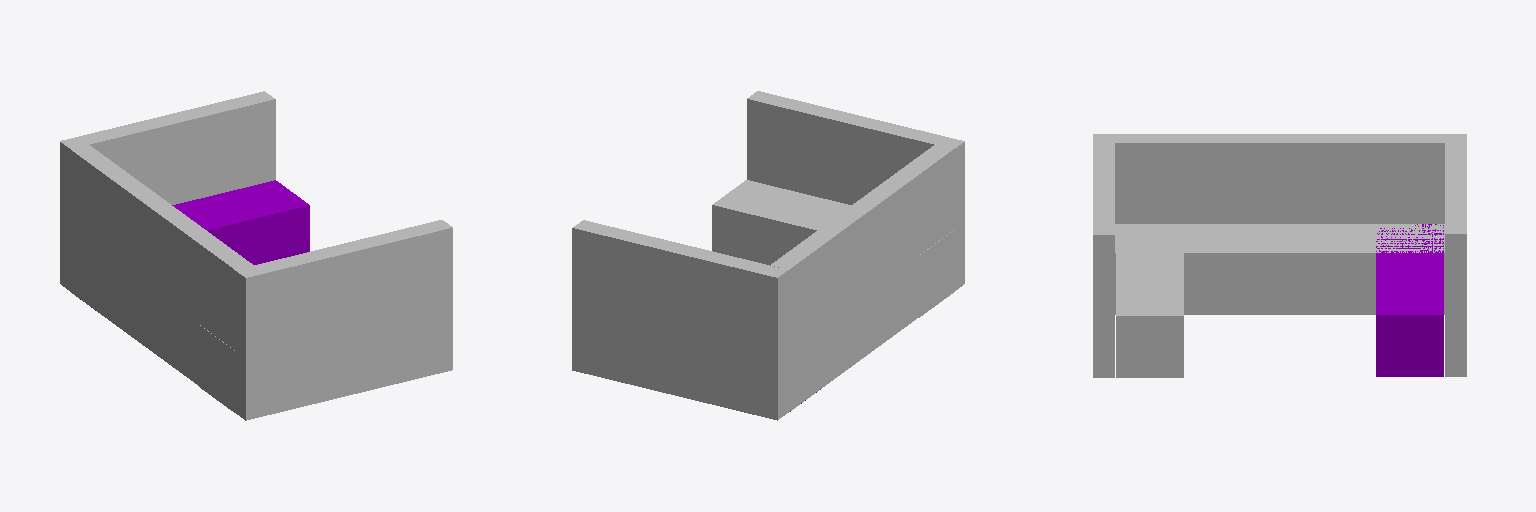
File: bank.obj
The picture shows the model from 3 angles: view 1: azimuth 30°, elevation 25°; view 2: azimuth 150°, elevation 25°; view 3: azimuth 270°, elevation 25°; orthographic projection.
Parts seen in each view (by area): view 1: Cube.004_Cube.006; view 2: Cube.004_Cube.006; view 3: Cube.004_Cube.006.
Part boxes in pixels (x1,y1,x2,y2): Cube.004_Cube.006: (60, 91, 452, 420); Cube.004_Cube.006: (572, 91, 964, 420); Cube.004_Cube.006: (1093, 134, 1466, 377).
Bounding box in the file's own units: 6.96 × 4.59 × 10.86.